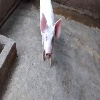heo: (37, 10, 62, 66)
